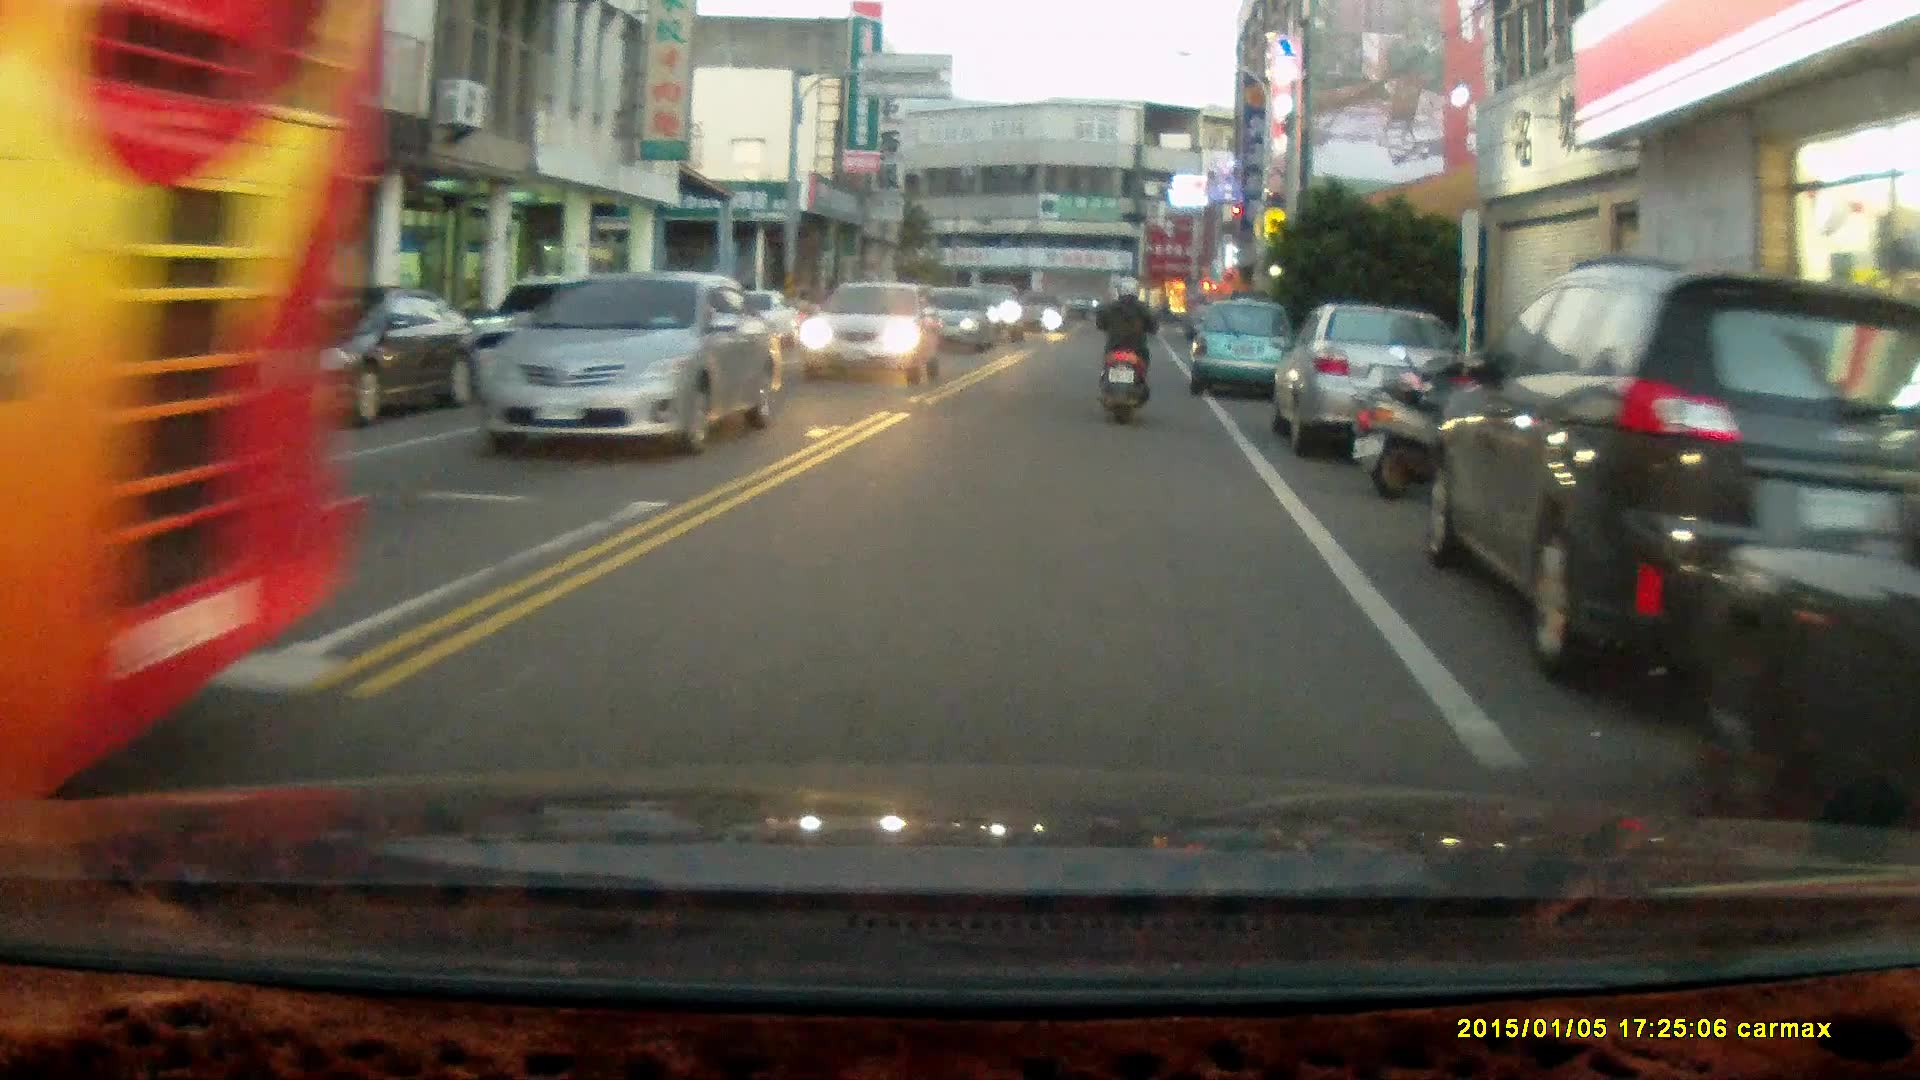rider: (1089, 271, 1152, 425)
vehicle: (1, 9, 386, 807), (1427, 256, 1920, 690), (1688, 480, 1920, 835), (471, 269, 781, 459), (230, 284, 482, 434), (1278, 303, 1459, 465), (800, 283, 943, 385), (1190, 294, 1300, 398), (909, 286, 996, 357)
